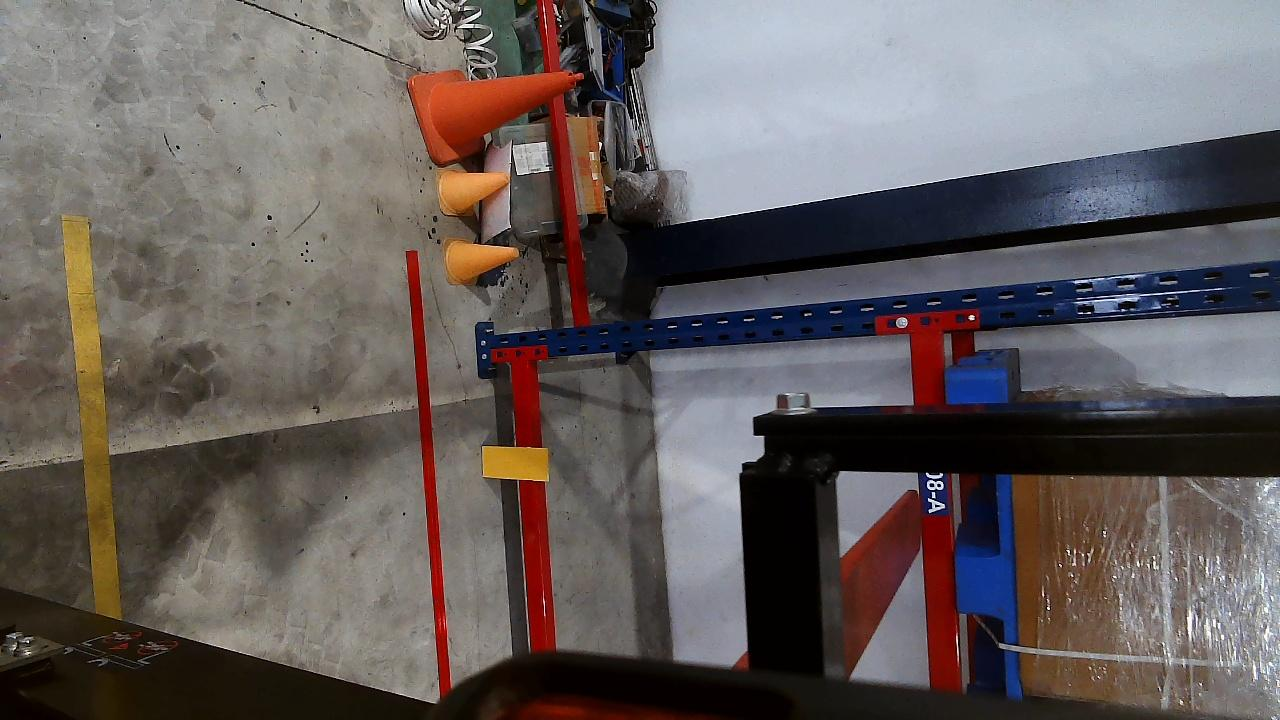h_rack: (904, 331, 954, 687), (509, 357, 556, 650)
orange_strip: (482, 446, 550, 480)
red_line: (409, 250, 452, 692)
small_pallet: (952, 369, 1023, 682)
yellow_line: (58, 214, 120, 617)
